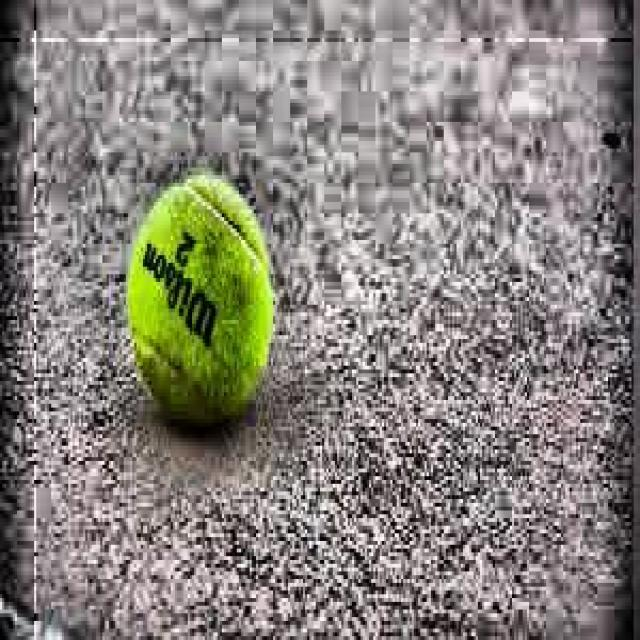tennis-ball: (126, 179, 280, 442)
